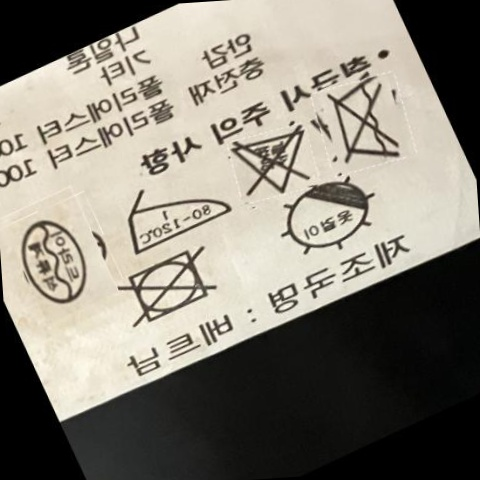DN_tumble_dry: (119, 248, 218, 328)
DN_wash: (318, 79, 405, 164)
dry_clean_petrol_only: (13, 214, 95, 309)
iron_low: (115, 178, 239, 256)
line_dry_in_shade: (273, 176, 376, 256)
non_chlorine_bleach: (227, 130, 312, 197)
